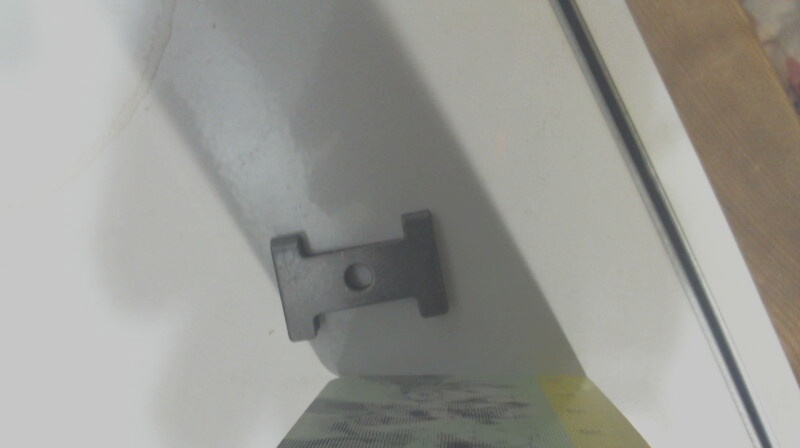O002: (266, 207, 451, 344)
